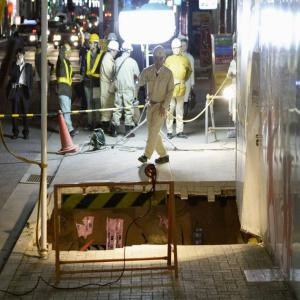none: (15, 48, 27, 63), (181, 39, 189, 53)
white: (153, 46, 167, 68), (108, 41, 121, 59), (172, 38, 182, 56), (122, 42, 134, 56), (84, 34, 92, 47)
yellow: (62, 44, 73, 61), (90, 34, 100, 51)
